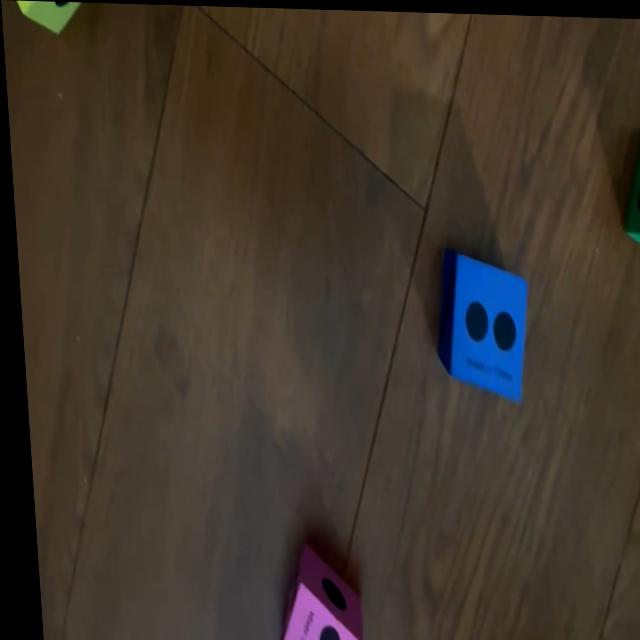cube: (429, 254, 526, 400), (620, 133, 640, 249)
